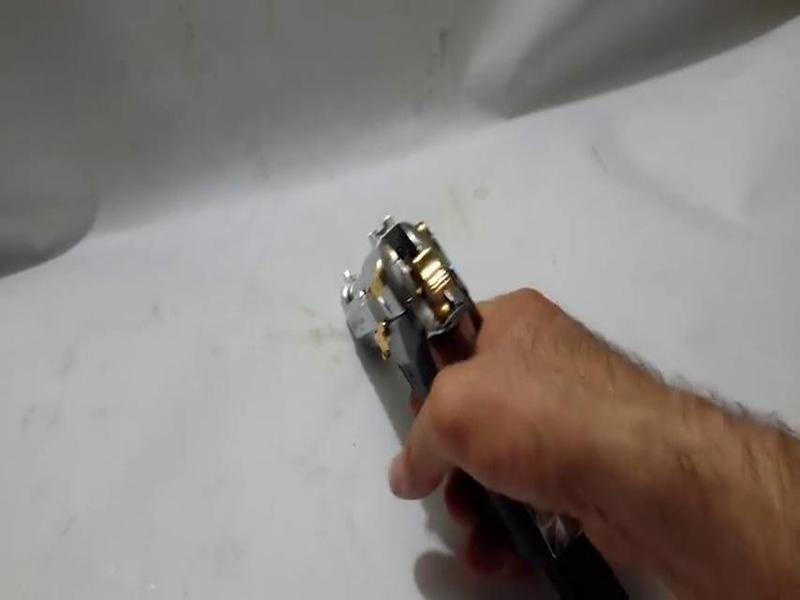Pistola: (318, 211, 575, 531)
